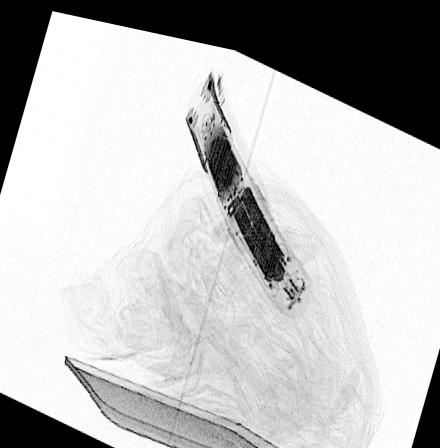Baton: (182, 62, 312, 312)
